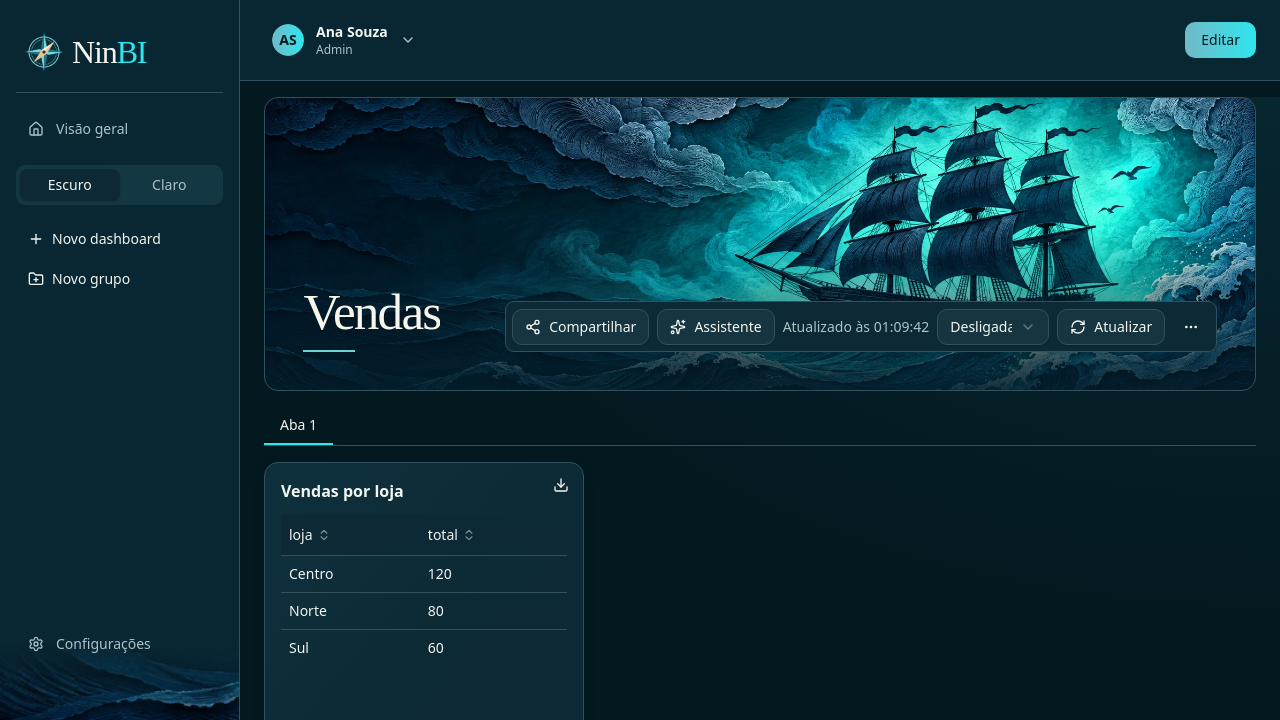
Test: WidgetCard atualização › RFR-09 atualização mantém os dados anteriores sem esqueleto
Expected: the text "Sul" is shown, [281,629,420,666]
Click the button "Atualizar". click: (1111, 327)
box: [1057,309,1165,345]
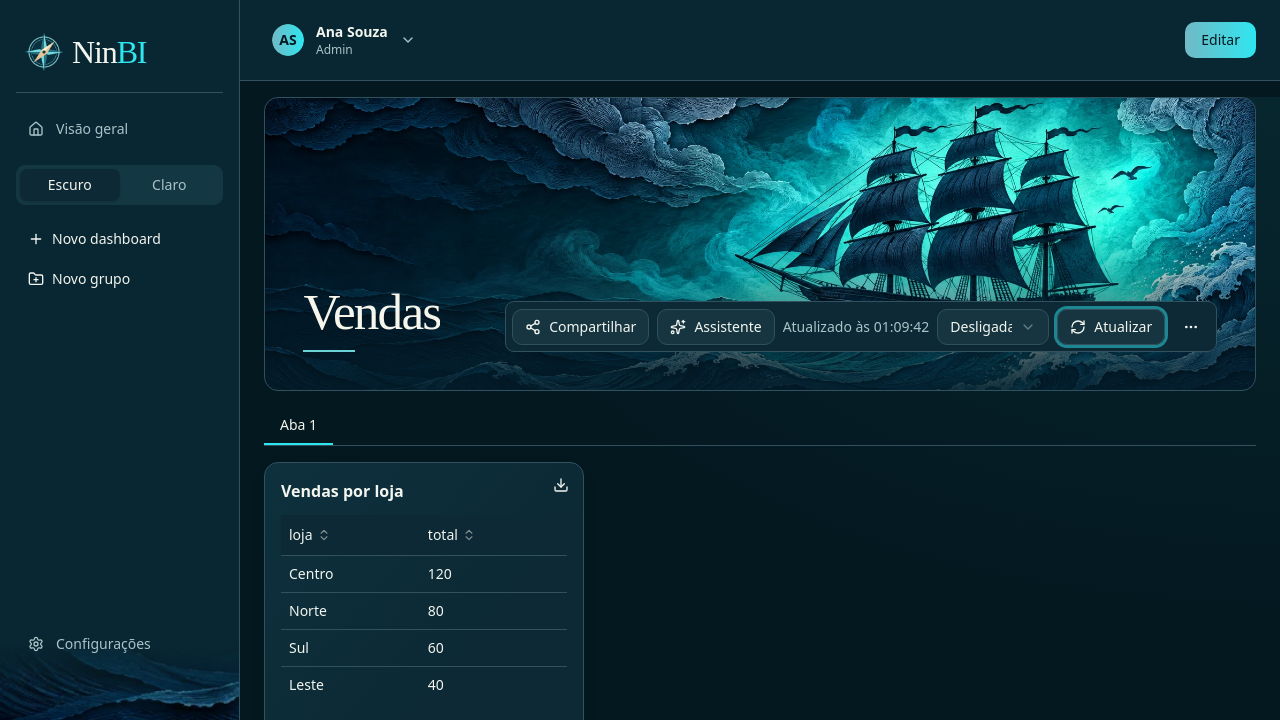
Expected: the text "Sul" is shown, [281,629,420,666]
Expected: the text "Leste" is shown, [281,666,420,703]
